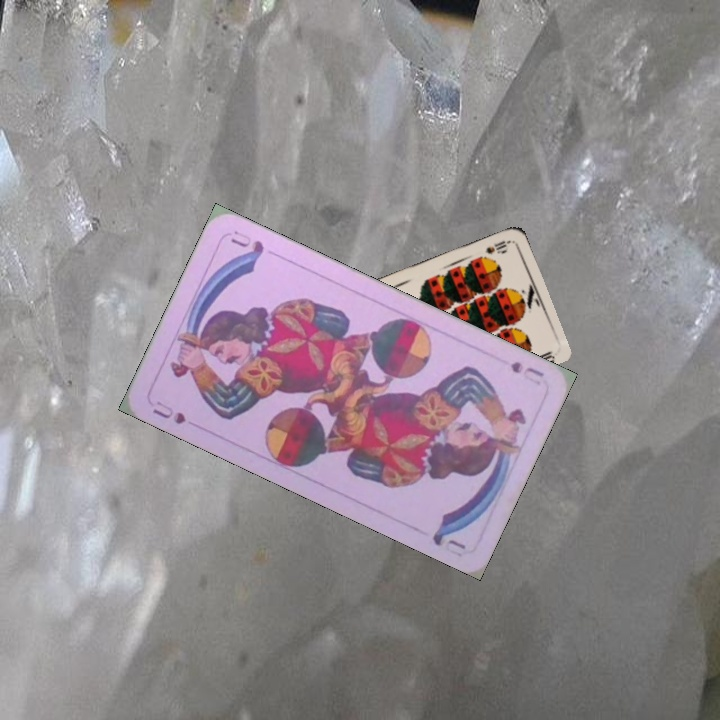S10: (481, 236, 513, 257)
SU: (506, 357, 547, 389), (148, 396, 188, 427)
